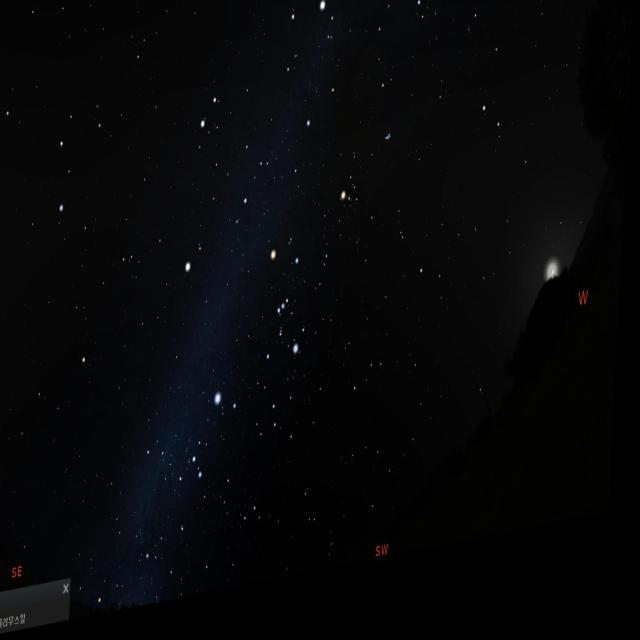canis_major: (191, 392, 247, 492)
canis_minor: (184, 247, 208, 293)
gemini: (192, 90, 274, 242)
moon: (544, 274, 568, 316)
orion: (261, 249, 317, 399)
pleiades: (382, 144, 400, 171)
taurus: (338, 120, 410, 254)
